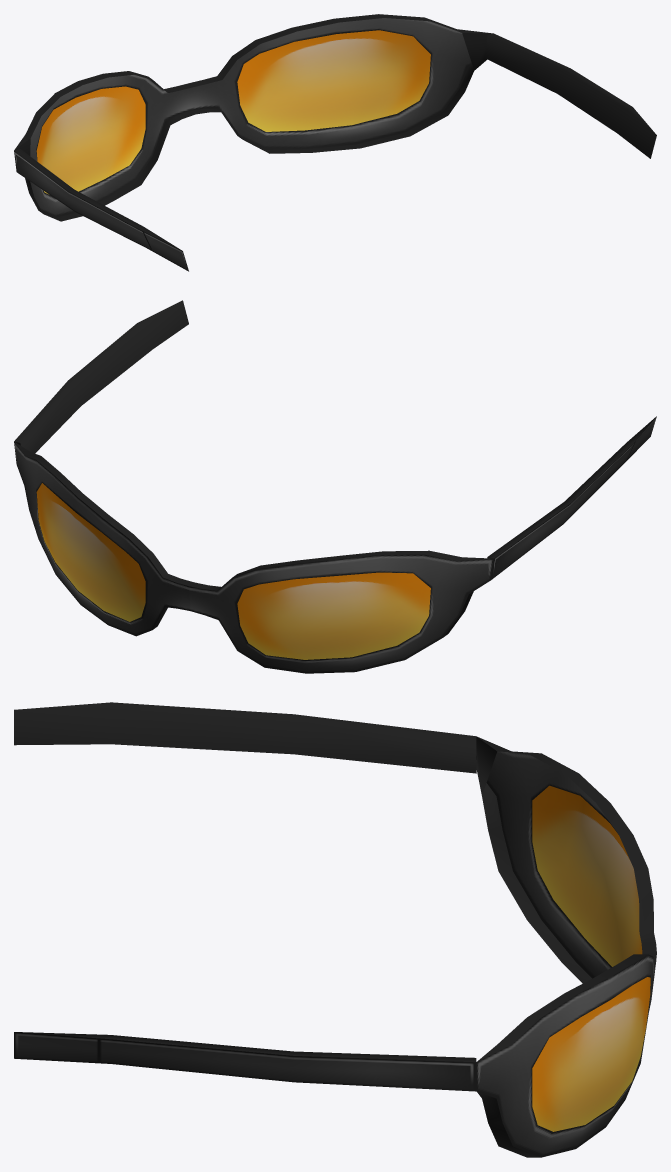
Rendered from glass.FBX.
3 views of the same model, one above another, from view 1: azimuth 30°, elevation 25°; view 2: azimuth 150°, elevation 25°; view 3: azimuth 270°, elevation 25° (orthographic). The views are drawn at different scales.
Parts seen in each view (by area): view 1: mesh0; view 2: mesh0; view 3: mesh0.
Part boxes in pixels (x1=…): mesh0: x1=14, y1=14, x2=656, y2=271; mesh0: x1=14, y1=300, x2=656, y2=673; mesh0: x1=14, y1=702, x2=656, y2=1157.
Bounding box in the file's own units: 163 × 41.94 × 129.
1 material, 1 textured.
